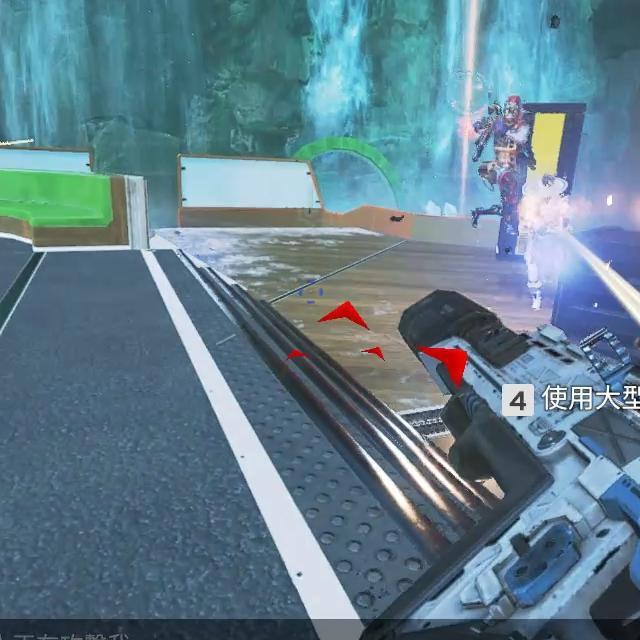avatar: (470, 93, 536, 238)
